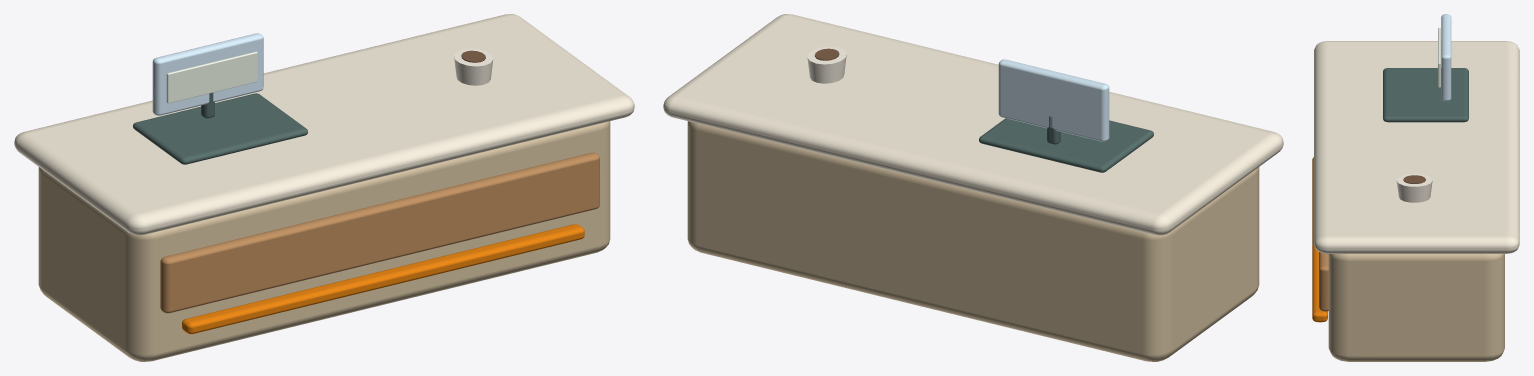
File: reception.glb
3 renders of one model, left to right at view 1: azimuth 30°, elevation 25°; view 2: azimuth 150°, elevation 25°; view 3: azimuth 270°, elevation 25°, orthographic. The views are drawn at different scales.
Visible parts, largest first — view 1: reception-counter; view 2: reception-counter; view 3: reception-counter.
Part boxes in pixels (x1,y1,x2,y2): reception-counter: (14,14,634,361); reception-counter: (663,14,1283,361); reception-counter: (1312,14,1519,361).
Bounding box in the file's own units: 2.55 × 1.15 × 1.1.
